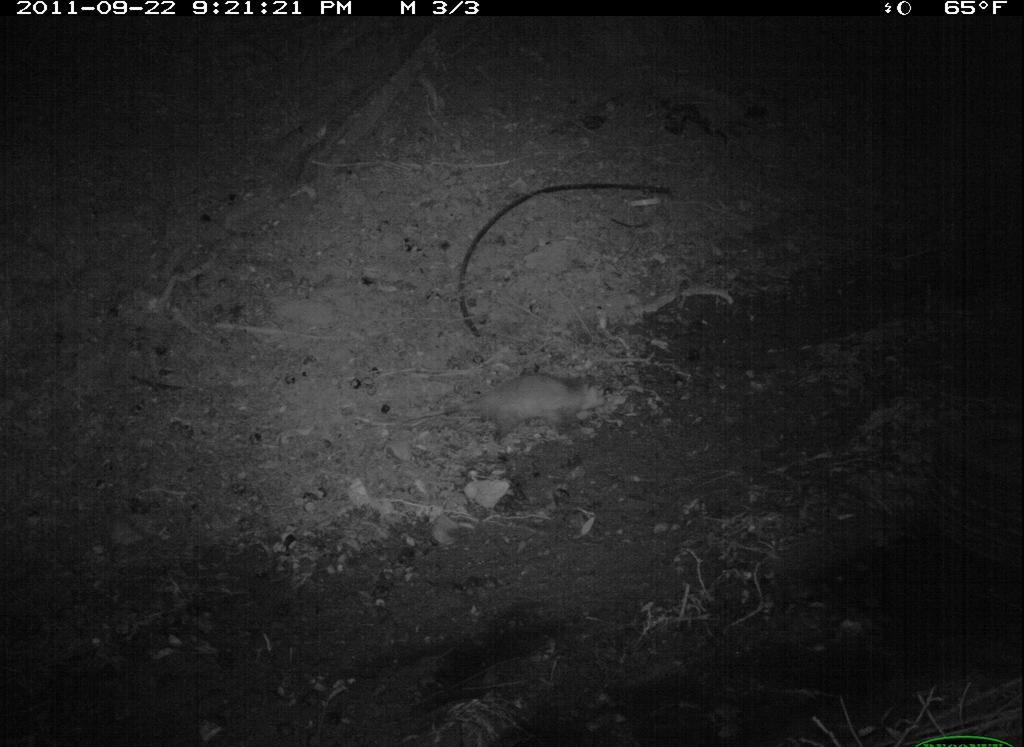opossum: (342, 365, 624, 457)
